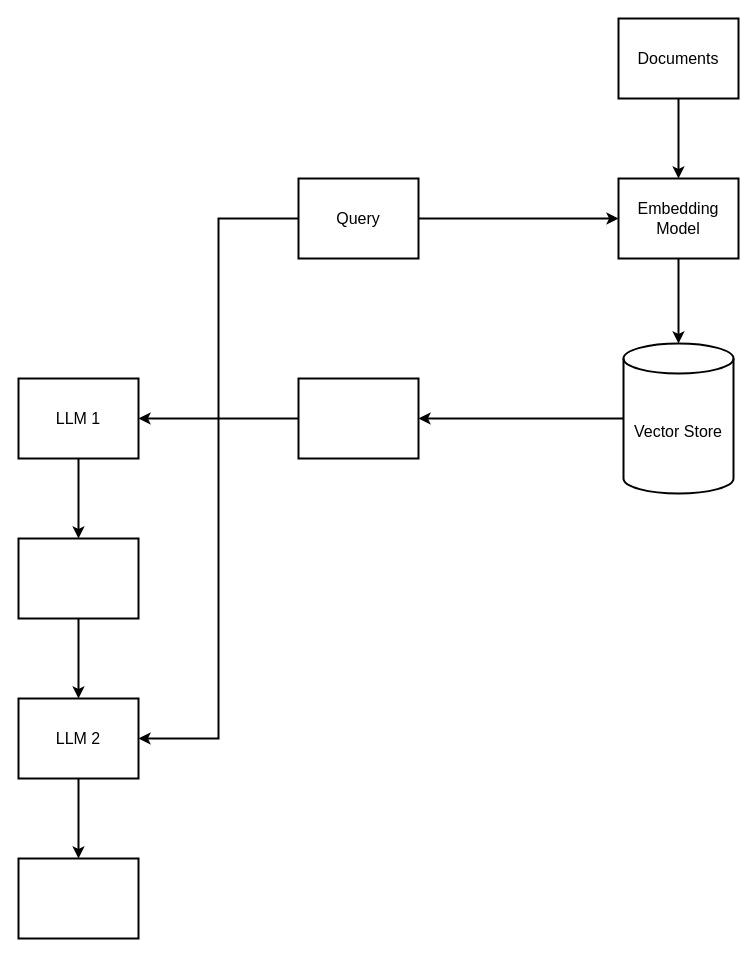
Image size: 756x956. Some labels were removed from this diagram. Each missing label, with the box of its shape:
Complaint Draft: (17, 857, 139, 939)
Evidences in the form of date, place, person: (17, 537, 139, 619)
Retrieved Documents: (297, 377, 419, 459)
